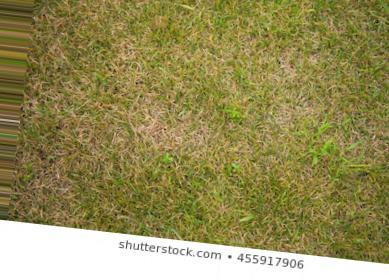patch: (111, 78, 206, 160), (231, 79, 316, 149), (43, 33, 97, 121), (37, 131, 82, 193)
